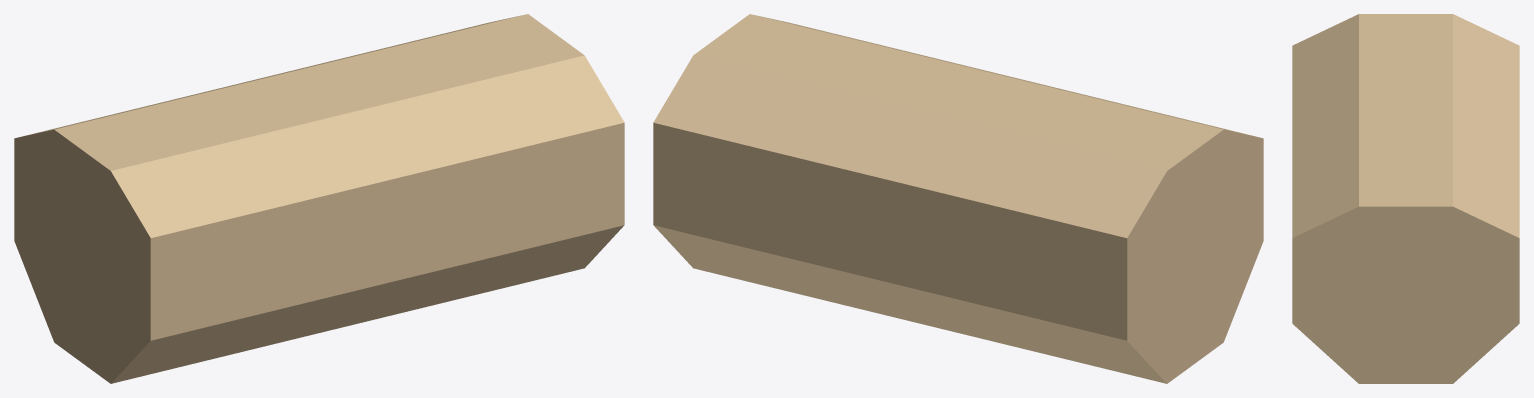
The model's file is prop-fipple-block-blank.fbx.
3 renders of one model, left to right at view 1: azimuth 30°, elevation 25°; view 2: azimuth 150°, elevation 25°; view 3: azimuth 270°, elevation 25°, orthographic. The views are drawn at different scales.
Visible parts, largest first — view 1: prop-fipple-block-blank; view 2: prop-fipple-block-blank; view 3: prop-fipple-block-blank.
Boxes of the visible parts, x1,y1,x2,y2 form: prop-fipple-block-blank: (14,14,624,383); prop-fipple-block-blank: (653,14,1263,383); prop-fipple-block-blank: (1292,14,1519,383).
Size of the model in its own units: 5 by 2.15 by 2.49.
